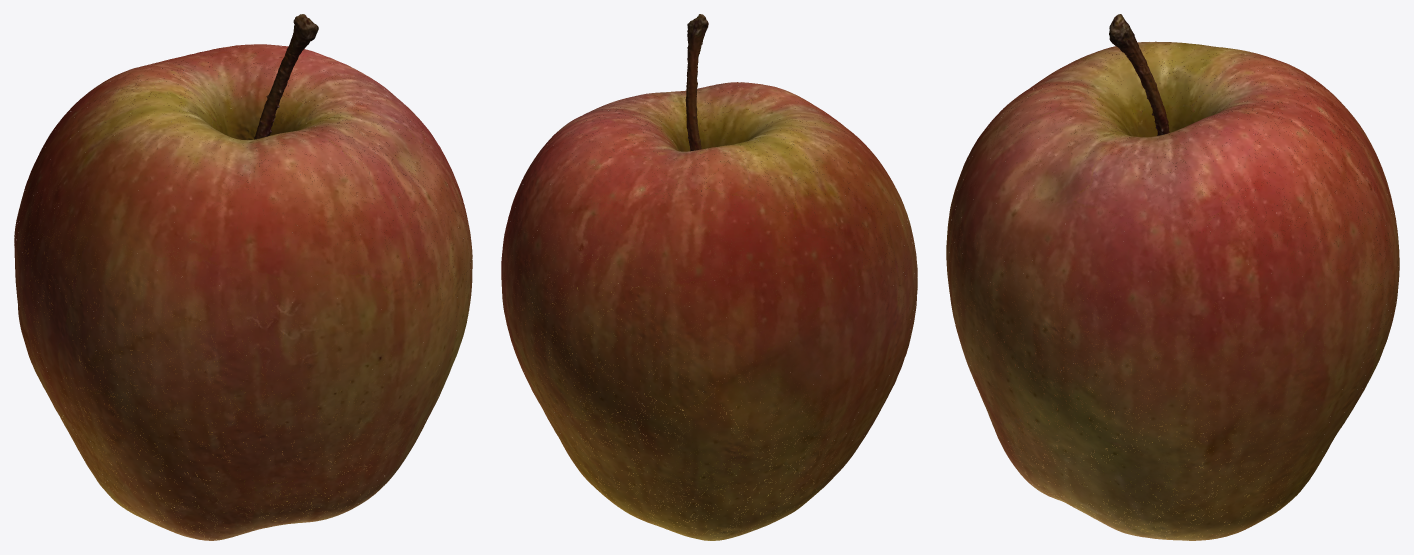
File: apple-transformed.glb
3 views of the same model, side by side, from view 1: azimuth 30°, elevation 25°; view 2: azimuth 150°, elevation 25°; view 3: azimuth 270°, elevation 25° (orthographic). The views are drawn at different scales.
Visible parts, largest first — view 1: Object_3, Object_7, Object_8, Object_5, Object_4, Object_6, Object_2, Object_9; view 2: Object_6, Object_7, Object_4, Object_8, Object_5, Object_2, Object_9, Object_3; view 3: Object_2, Object_3, Object_7, Object_8, Object_5, Object_4, Object_6, Object_9.
Boxes of the visible parts, <box> form: Object_3: <box>114,114,472,483</box>; Object_7: <box>15,57,429,447</box>; Object_8: <box>14,14,472,487</box>; Object_5: <box>60,44,402,540</box>; Object_4: <box>37,198,464,522</box>; Object_6: <box>14,46,339,415</box>; Object_2: <box>153,44,472,382</box>; Object_9: <box>37,45,410,540</box>; Object_6: <box>505,110,899,492</box>; Object_7: <box>577,69,917,482</box>; Object_4: <box>525,253,914,540</box>; Object_8: <box>501,14,917,491</box>; Object_5: <box>507,110,912,540</box>; Object_2: <box>501,97,702,419</box>; Object_9: <box>505,84,866,540</box>; Object_3: <box>545,82,917,403</box>; Object_2: <box>982,83,1398,507</box>; Object_3: <box>946,82,1174,523</box>; Object_7: <box>952,41,1357,358</box>; Object_8: <box>946,14,1374,496</box>; Object_5: <box>1004,56,1362,539</box>; Object_4: <box>960,204,1396,540</box>; Object_6: <box>1133,62,1399,375</box>; Object_9: <box>967,54,1398,540</box>.
Bounding box in the file's own units: 0.6262 × 0.7864 × 0.623.
1 material, 1 textured.
